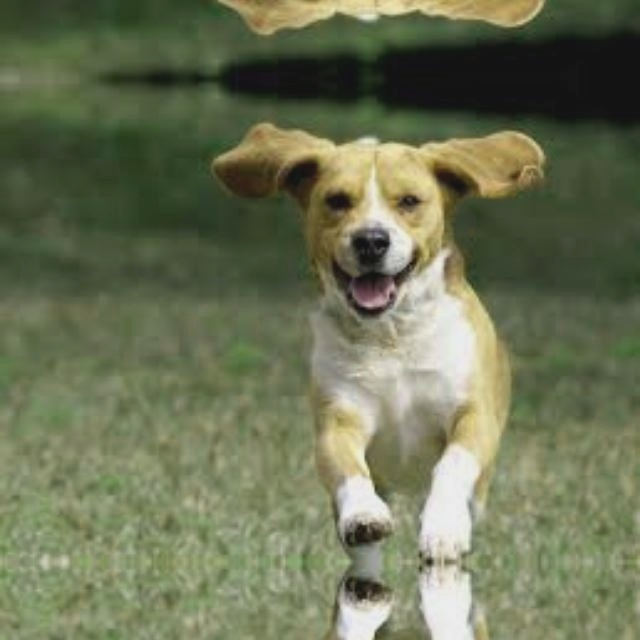dog: (211, 98, 557, 558), (211, 566, 557, 640), (211, 0, 557, 58)
